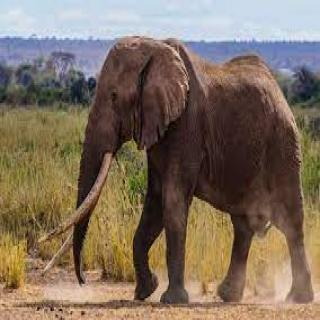Elephant: (35, 33, 317, 309)
